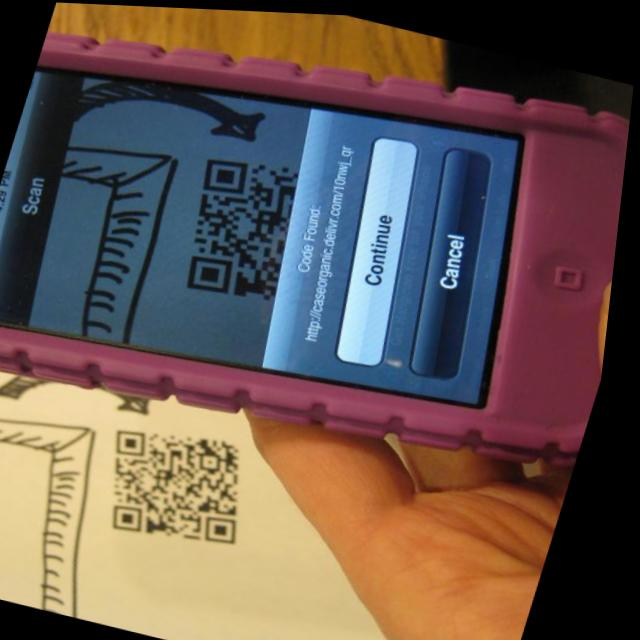qrcode: (100, 412, 278, 555), (176, 144, 322, 307)
